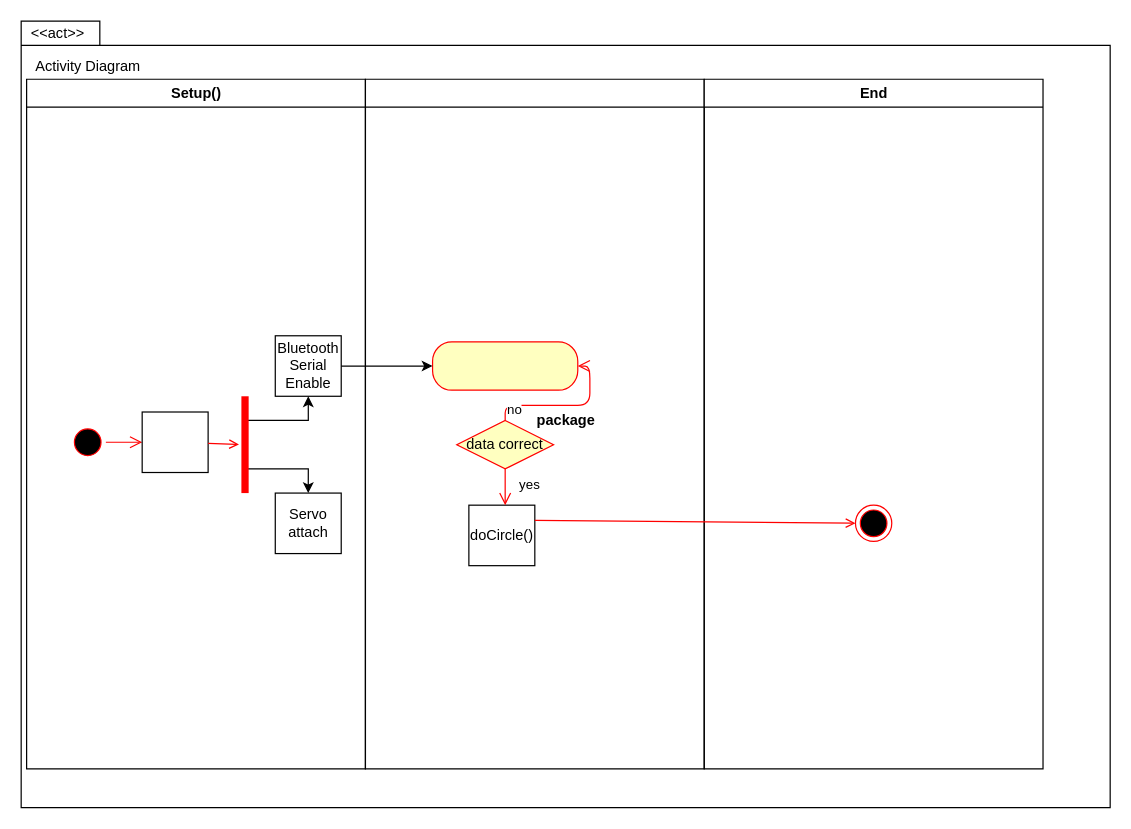
Some shapes in this 1131 by 829 pixel diagram are drawn without their labels. The shapes that lost their labels are listed below. From the top down, each one's box as (x1, y1, x2, y2) in pixels, then its label:
(431, 341, 578, 390): Check for incoming bluetooth Data
(141, 411, 208, 473): power ON
(364, 78, 704, 769): Loop
